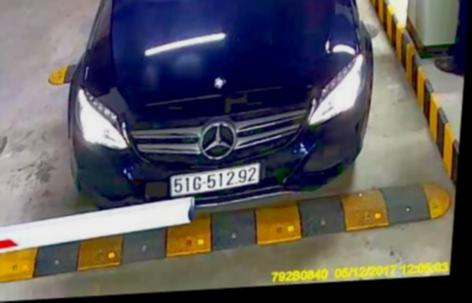License_Plate: (167, 164, 265, 196)
